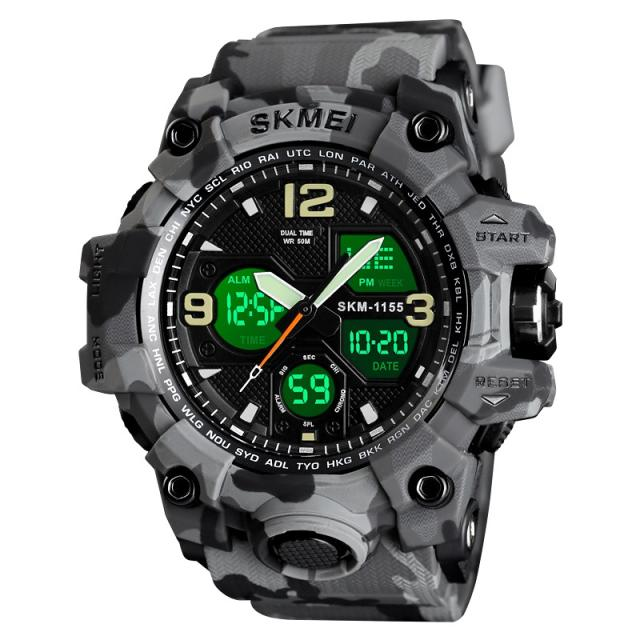watch: (70, 84, 557, 550)
